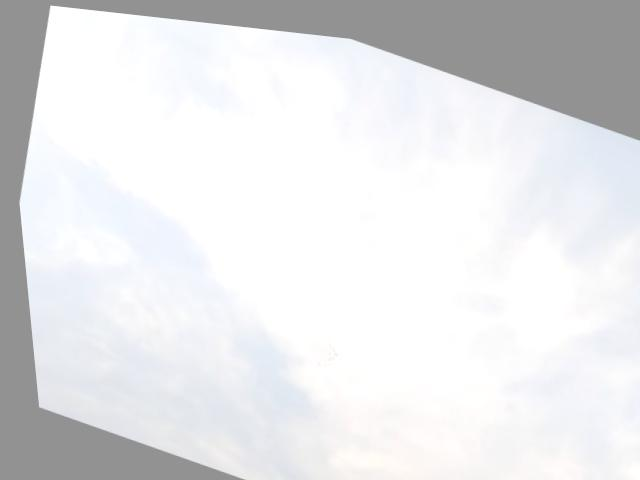iha: (355, 332, 363, 341)
